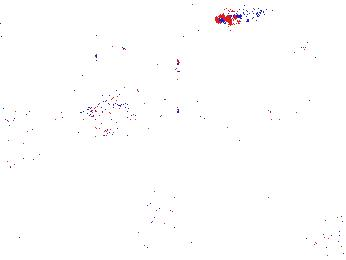X-ray fish: (80, 99, 148, 133)
red belly glassfish: (215, 7, 267, 27), (275, 41, 307, 60)
